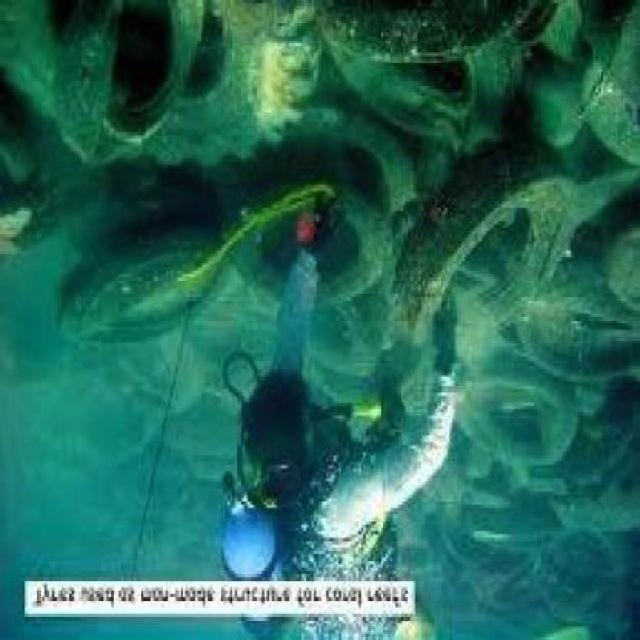tire: (417, 172, 598, 356), (222, 139, 408, 313), (326, 3, 563, 139), (73, 7, 264, 168), (67, 202, 242, 360), (462, 340, 564, 491)
